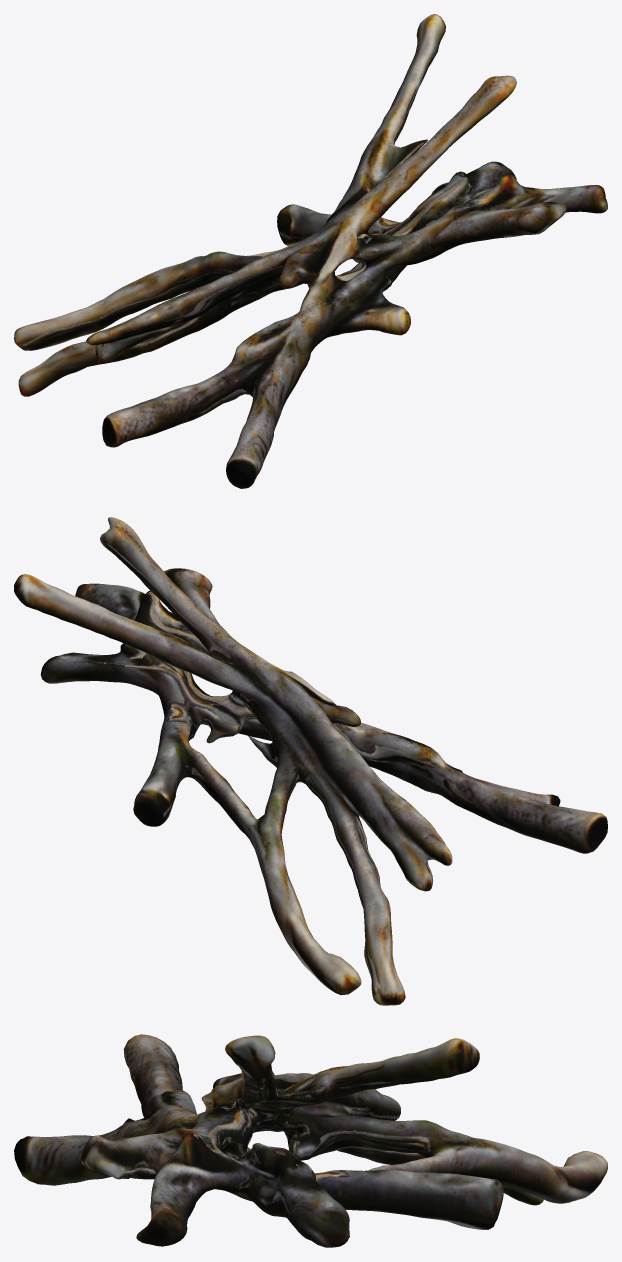
The model's file is 206633d68582_bundle_of_twigs_vid.fbx.
3 views of the same model, one above another, from view 1: azimuth 30°, elevation 25°; view 2: azimuth 150°, elevation 25°; view 3: azimuth 270°, elevation 25° (orthographic). The views are drawn at different scales.
Parts seen in each view (by area): view 1: mesh; view 2: mesh; view 3: mesh.
Boxes of the visible parts, x1,y1,x2,y2 form: mesh: (14, 14, 607, 488); mesh: (14, 517, 607, 1005); mesh: (14, 1034, 607, 1247).
Size of the model in its own units: 99.8 by 58.04 by 75.62.
